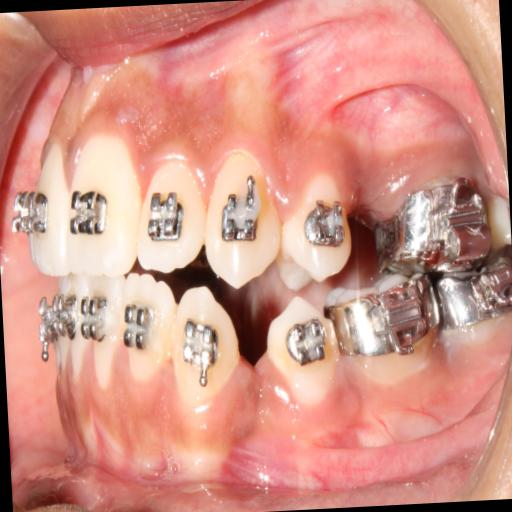correct_brace: (266, 291, 341, 407), (280, 177, 352, 282), (65, 179, 113, 247), (220, 180, 264, 250), (284, 314, 330, 375), (178, 316, 222, 372), (146, 187, 188, 244), (120, 296, 156, 358)
incorrect_brace: (133, 150, 204, 278), (120, 272, 178, 390), (304, 200, 346, 250)
